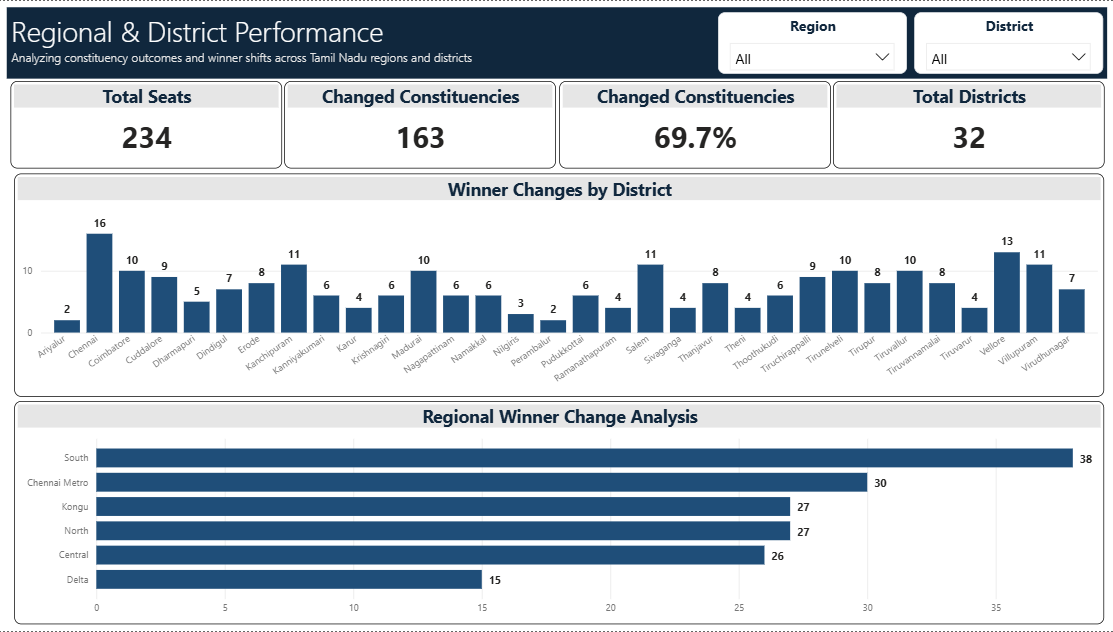

This screenshot's page, from the dashboard's own definition file:
{"tool":"powerbi","page":{"name":"06 — Regional & District Performance","canvas":[1280,720],"ordinal":5},"visuals":[{"type":"textbox","box":[10,7.5,1257.5,81.2],"z":0},{"type":"card","title":"Total Seats","fields":{"Values":["Master.Total Constituencies"]},"box":[14.8,92.1,310,99.9],"z":1000},{"type":"card","title":"Changed Constituencies","fields":{"Values":["Master.Changed Constituencies"]},"box":[327.9,92.1,310.1,99.9],"z":2000},{"type":"card","title":"Changed Constituencies","fields":{"Values":["Master.Changed Constituency %"]},"box":[641,92.1,310.1,99.9],"z":3000},{"type":"card","title":"Total Districts","fields":{"Values":["Master.Total Districts"]},"box":[954.1,92.1,310.1,99.9],"z":4000},{"type":"clusteredColumnChart","title":"Winner Changes by District","fields":{"Category":["Master.Geography Hierarchy.region","Master.Geography Hierarchy.district","Master.Geography Hierarchy.constituency"],"Y":["Master.Total Constituencies"]},"box":[18.2,197.2,1245.5,255],"z":5000},{"type":"clusteredBarChart","title":"Regional Winner Change Analysis","fields":{"Category":["Master.region"],"Y":["Master.Changed Constituencies"]},"box":[18.2,456.7,1245.5,255.6],"z":6000},{"type":"slicer","title":"Region","fields":{"Values":["Master.region"]},"box":[823,13,215.7,70],"z":7000},{"type":"slicer","title":"District","fields":{"Values":["Master.district"]},"box":[1047.3,13,215.7,70],"z":8000}]}

Visuals, with their boxes in screenshot pixels (x1, y1, x2, y2), scaled from the page's 1280x720 canvas onto the 1113x632 screenshot:
textbox: <box>9,7,1102,78</box>
"Total Seats" card: <box>13,81,282,169</box>
"Changed Constituencies" card: <box>285,81,555,169</box>
"Changed Constituencies" card: <box>557,81,827,169</box>
"Total Districts" card: <box>830,81,1099,169</box>
"Winner Changes by District" clusteredColumnChart: <box>16,173,1099,397</box>
"Regional Winner Change Analysis" clusteredBarChart: <box>16,401,1099,625</box>
"Region" slicer: <box>716,11,903,73</box>
"District" slicer: <box>911,11,1098,73</box>
